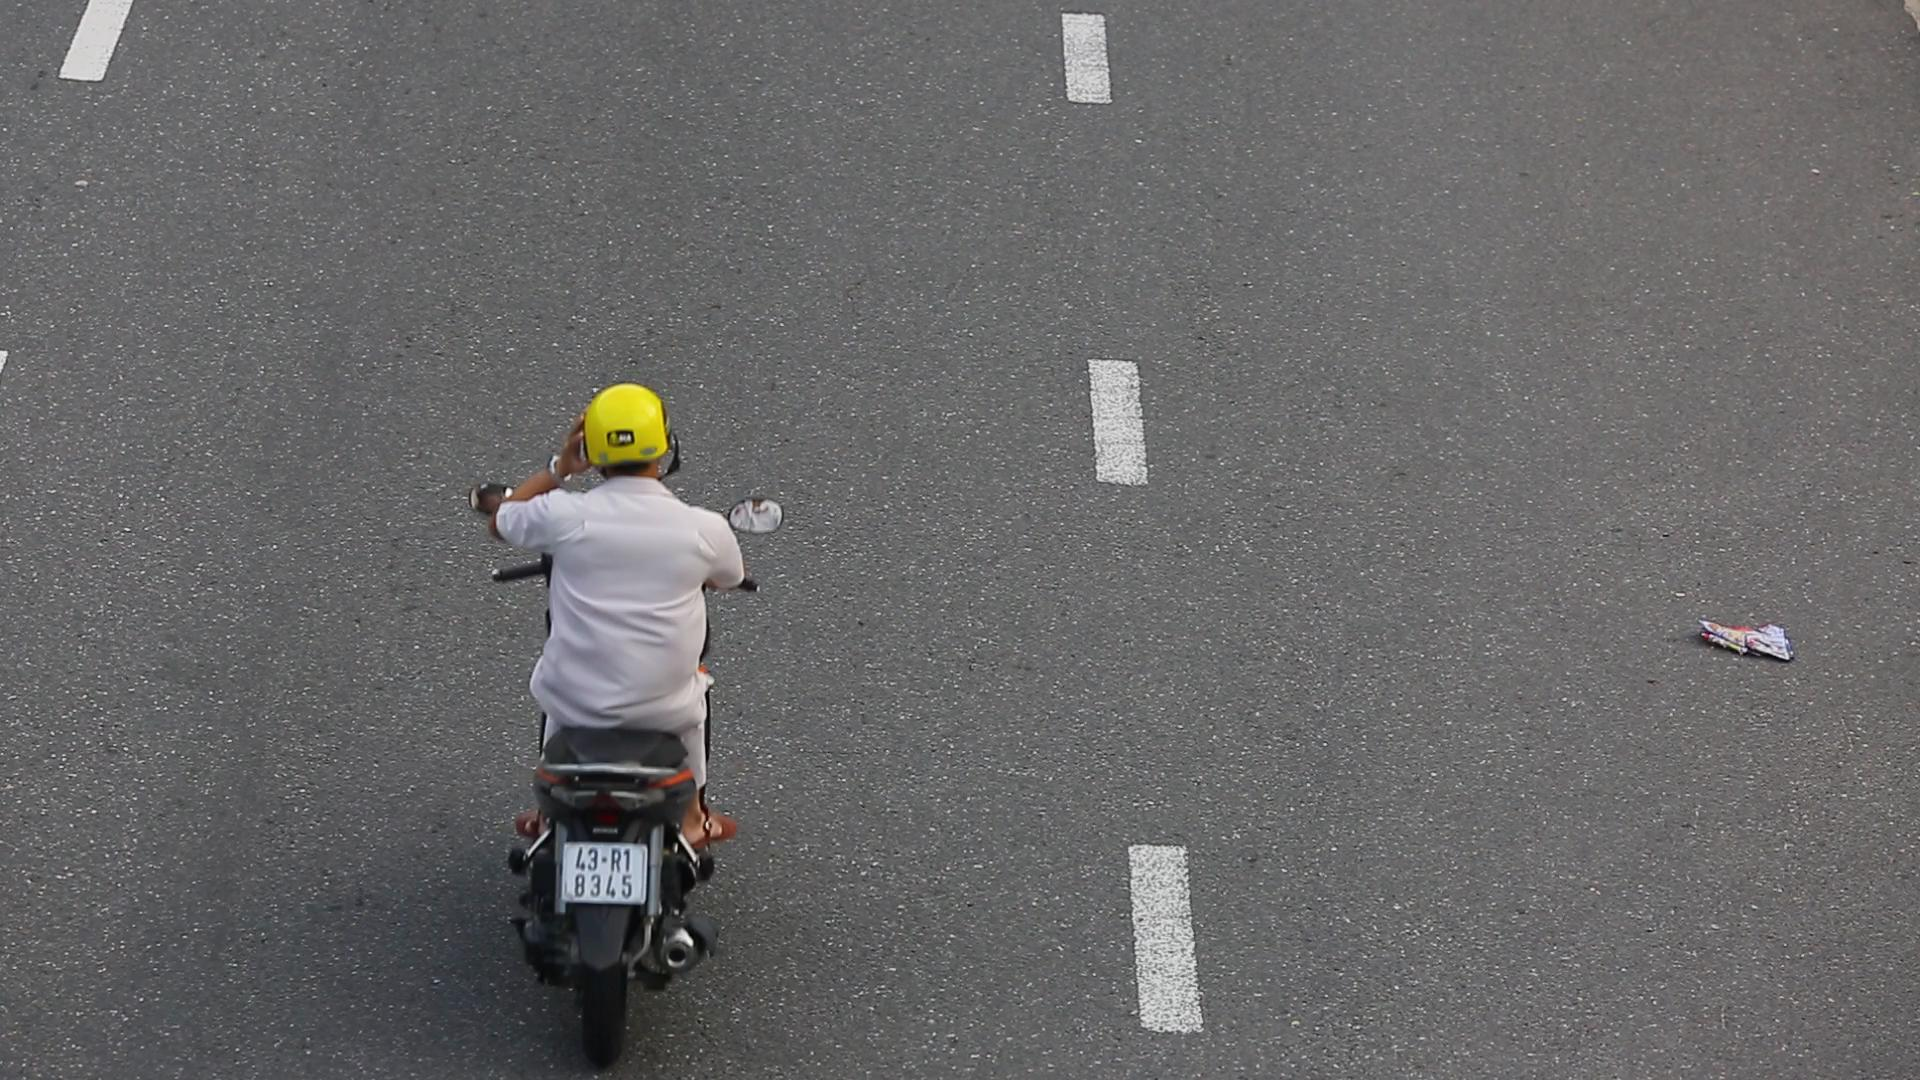motobike: (471, 372, 799, 1075)
